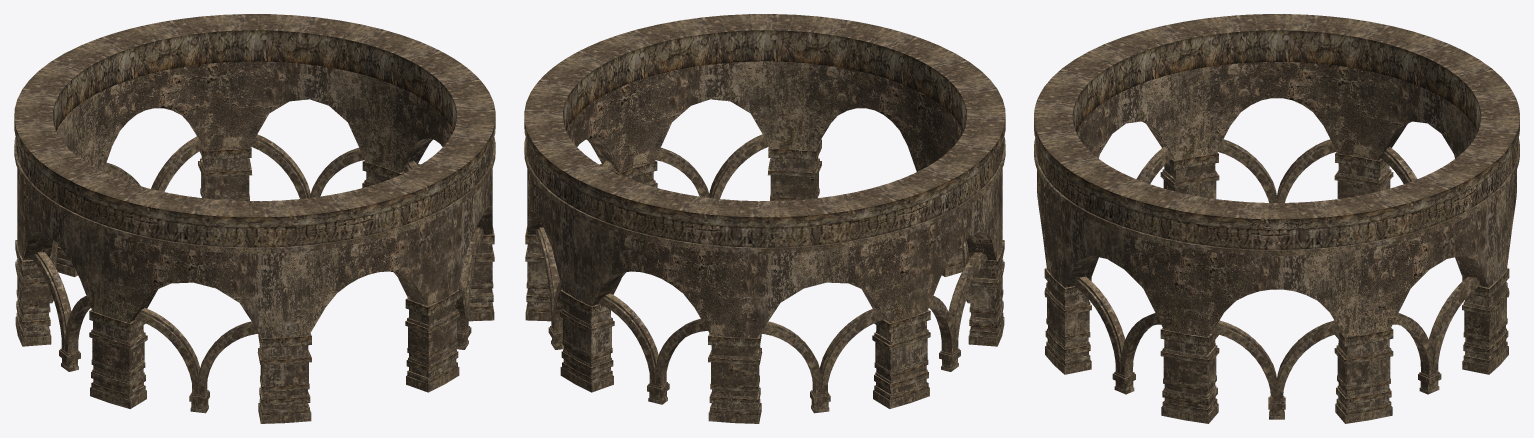
Rendered from materials_5_wall_cylinder_11.fbx.
The picture shows the model from 3 angles, left to right: view 1: azimuth 30°, elevation 25°; view 2: azimuth 150°, elevation 25°; view 3: azimuth 270°, elevation 25°; orthographic projection.
Visible parts, largest first — view 1: materials_5_wall_cylinder_11; view 2: materials_5_wall_cylinder_11; view 3: materials_5_wall_cylinder_11.
Boxes of the visible parts, bbox=[...] form: materials_5_wall_cylinder_11: bbox=[14, 14, 495, 423]; materials_5_wall_cylinder_11: bbox=[524, 14, 1005, 423]; materials_5_wall_cylinder_11: bbox=[1034, 14, 1519, 423].
Size of the model in its own units: 954 by 453 by 954.
